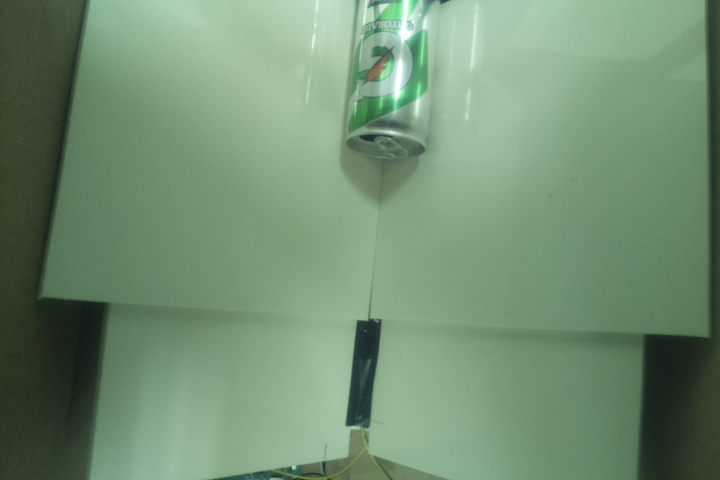can: (343, 1, 435, 164)
